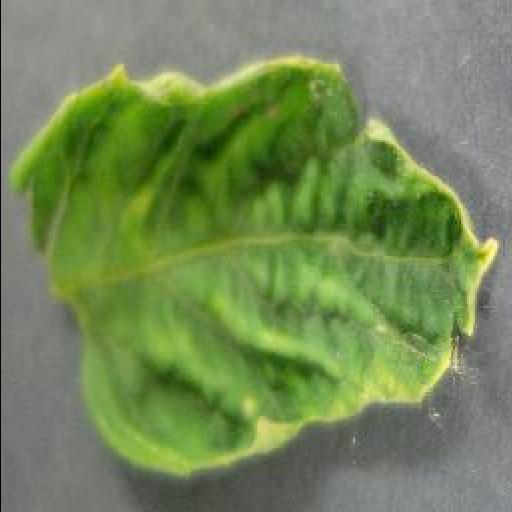disease_tomato: (12, 58, 498, 479)
